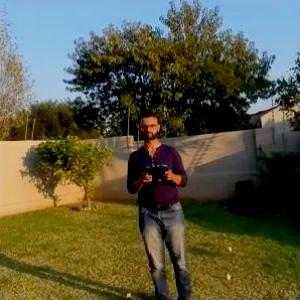follow: (119, 107, 194, 299)
